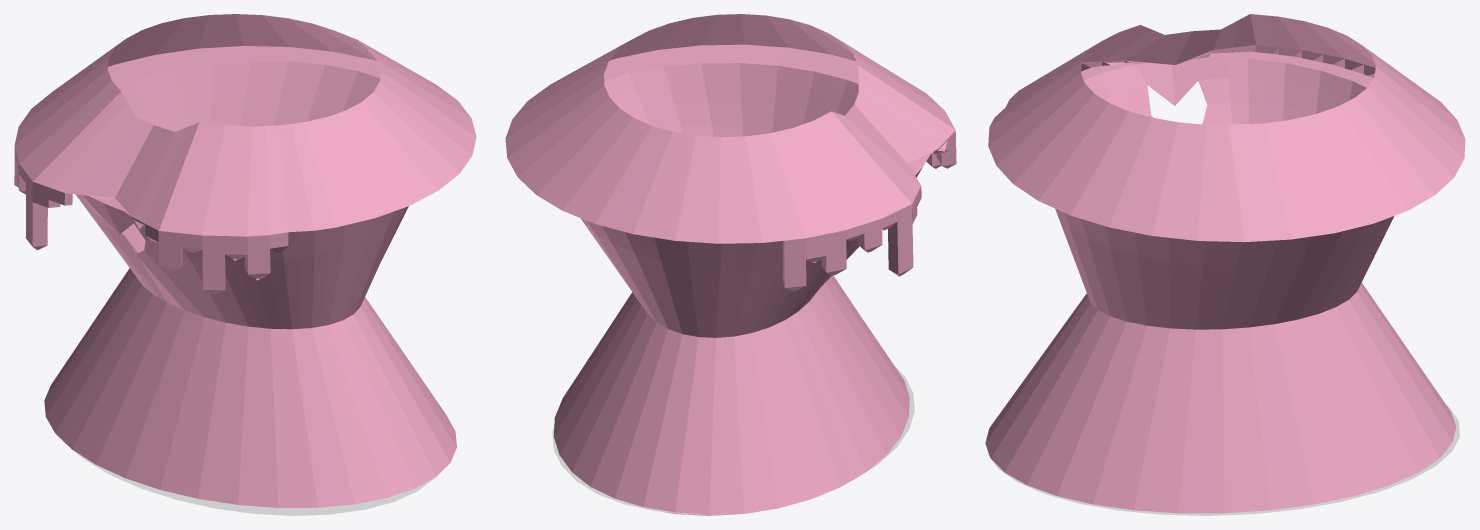
Rendered from Sabrina Crapenter Body Suit. less metalic.glb.
3 renders of one model, left to right at view 1: azimuth 30°, elevation 25°; view 2: azimuth 150°, elevation 25°; view 3: azimuth 270°, elevation 25°, orthographic. The views are drawn at different scales.
Visible parts, largest first — view 1: Cylinder, Circle; view 2: Cylinder, Circle; view 3: Cylinder, Circle.
Boxes of the visible parts, x1,y1,x2,y2 form: Cylinder: [14, 14, 476, 507]; Circle: [63, 441, 435, 515]; Cylinder: [505, 14, 956, 515]; Circle: [552, 368, 914, 514]; Cylinder: [985, 14, 1465, 513]; Circle: [986, 404, 1459, 515].
Size of the model in its own units: 1.99 by 1.71 by 2.01.
